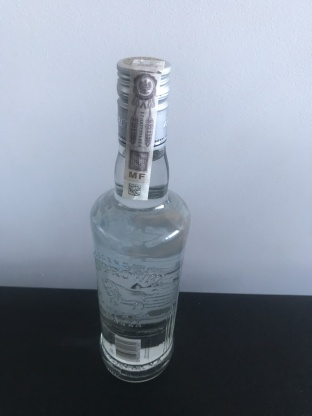nakretka: (112, 53, 174, 154)
